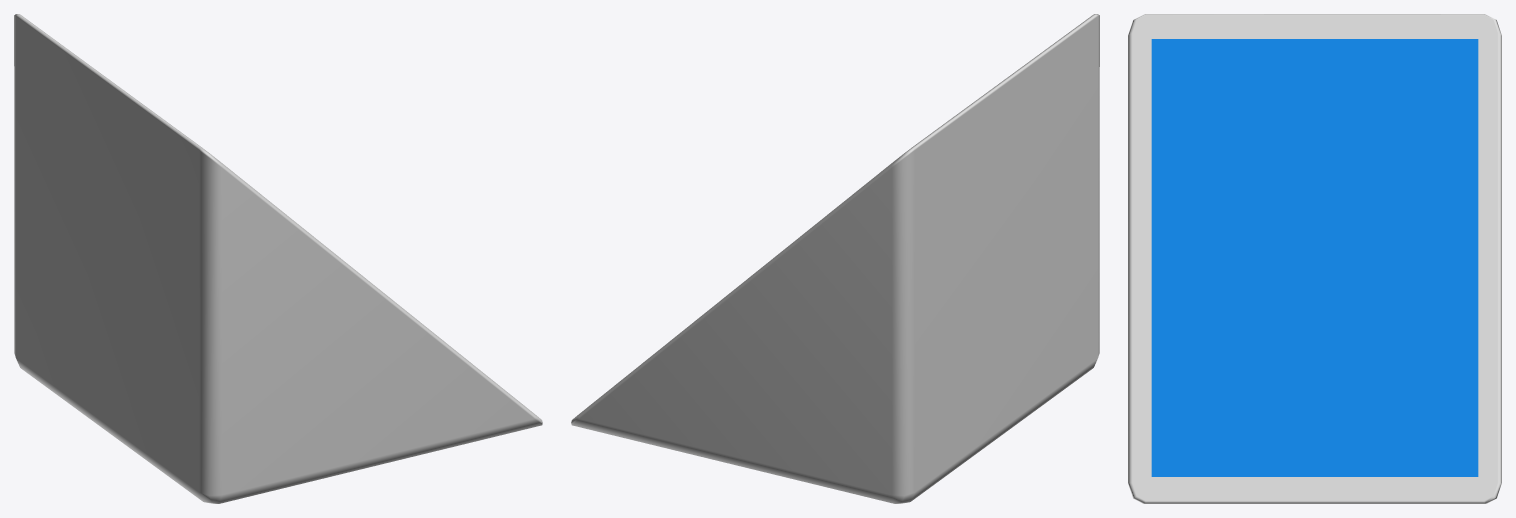
Rendered from block.gltf.
3 views of the same model, side by side, from view 1: azimuth 30°, elevation 25°; view 2: azimuth 150°, elevation 25°; view 3: azimuth 270°, elevation 25° (orthographic). The views are drawn at different scales.
Parts seen in each view (by area): view 1: block; view 2: block; view 3: block.
Boxes of the visible parts, x1=… form: block: x1=14, y1=14, x2=542, y2=503; block: x1=571, y1=14, x2=1099, y2=503; block: x1=1128, y1=14, x2=1501, y2=503.
Bounding box in the file's own units: 2.37 × 2.37 × 2.4.
